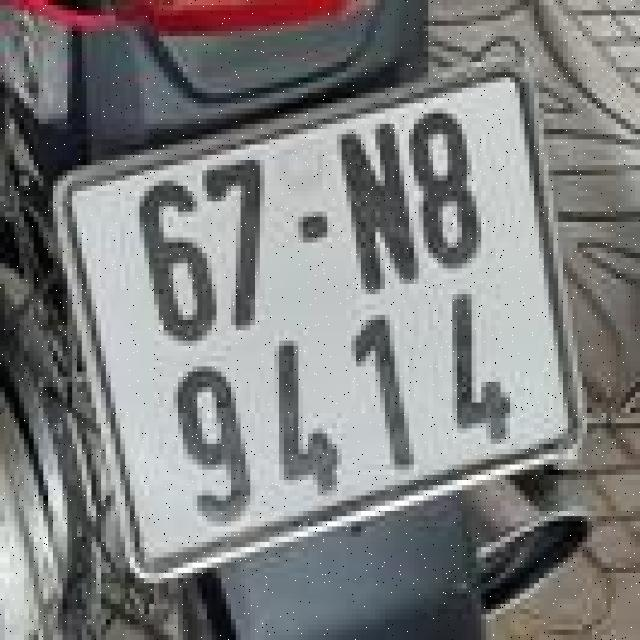1: (337, 308, 443, 486)
4: (258, 329, 357, 509), (432, 272, 528, 457)
6: (127, 174, 224, 352)
7: (193, 148, 286, 336)
8: (404, 98, 495, 287)
9: (158, 354, 262, 537)
N: (329, 114, 430, 303)
